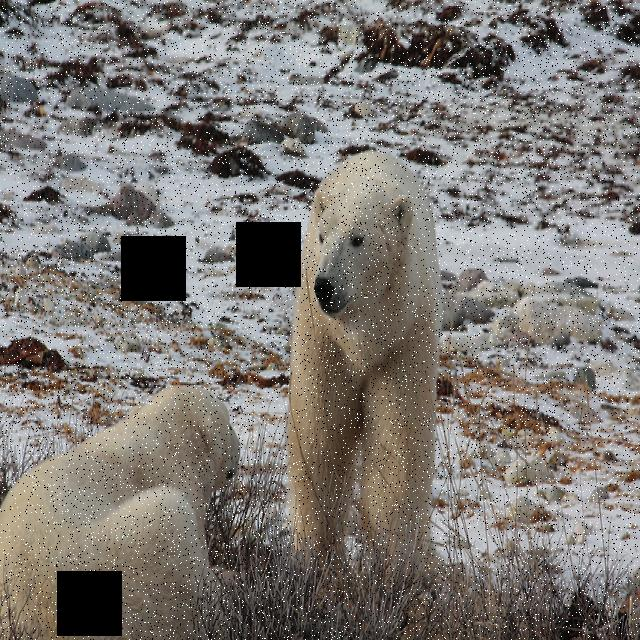Bear: (291, 144, 452, 616), (0, 371, 241, 640)
